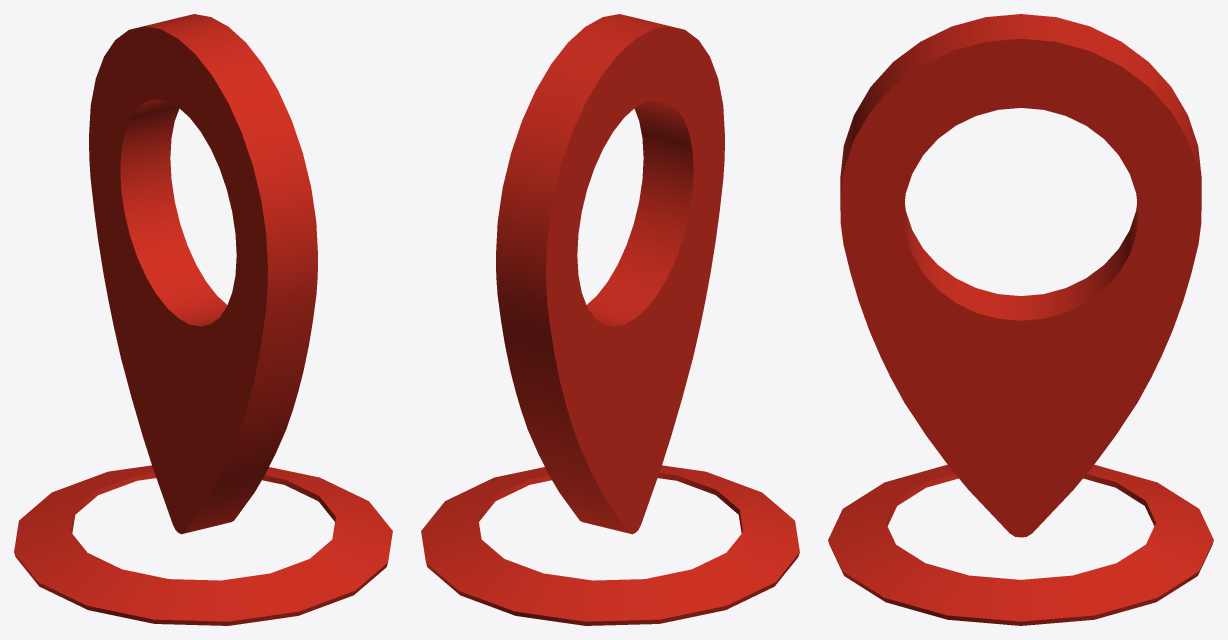
The model's file is U_are_Here.glb.
The picture shows the model from 3 angles, left to right: view 1: azimuth 30°, elevation 25°; view 2: azimuth 150°, elevation 25°; view 3: azimuth 270°, elevation 25°; orthographic projection.
Parts seen in each view (by area): view 1: U_are_Here; view 2: U_are_Here; view 3: U_are_Here.
Part boxes in pixels (<box>): U_are_Here: <box>14,14,392,625</box>; U_are_Here: <box>421,14,799,625</box>; U_are_Here: <box>828,14,1213,625</box>.
Size of the model in its own units: 1.36 by 2.02 by 1.36.
